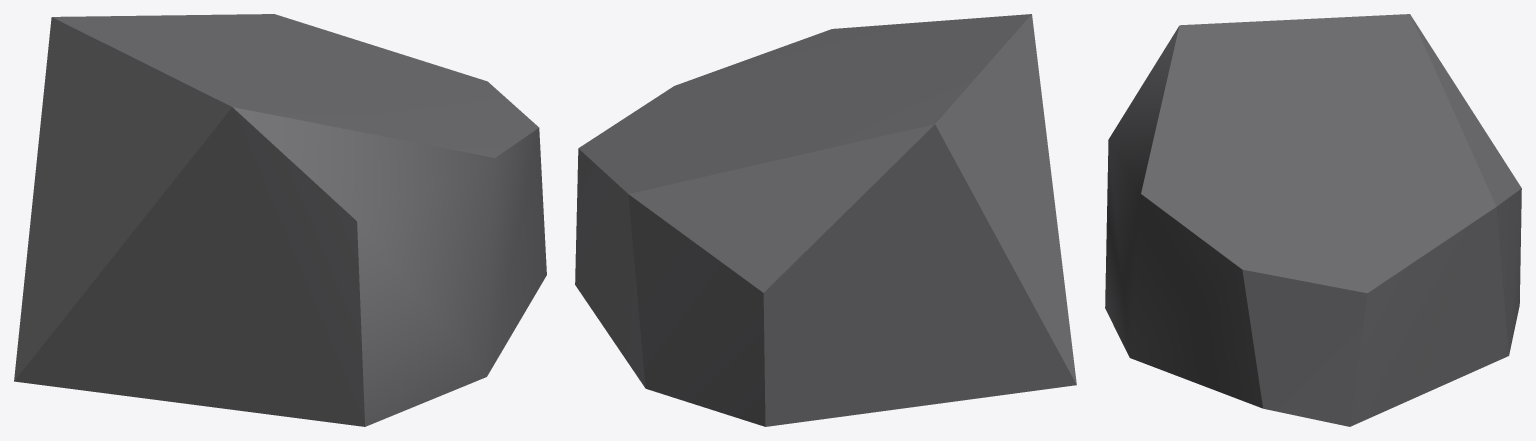
File: Stone_01.fbx
The picture shows the model from 3 angles, left to right: view 1: azimuth 30°, elevation 25°; view 2: azimuth 150°, elevation 25°; view 3: azimuth 270°, elevation 25°; orthographic projection. The views are drawn at different scales.
Parts seen in each view (by area): view 1: Stone_01; view 2: Stone_01; view 3: Stone_01.
Boxes of the visible parts, x1,y1,x2,y2 form: Stone_01: (14, 14, 546, 426); Stone_01: (575, 14, 1076, 426); Stone_01: (1105, 14, 1521, 426).
Size of the model in its own units: 88.52 by 50.29 by 76.06.
